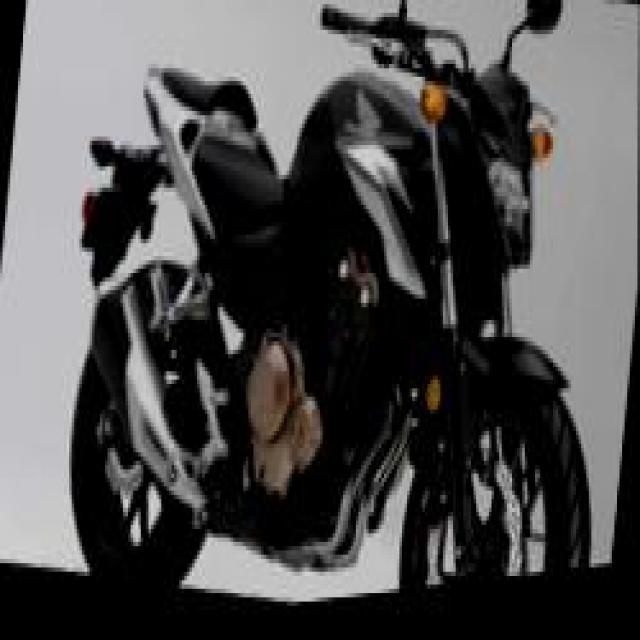CB500F: (43, 0, 638, 632)
